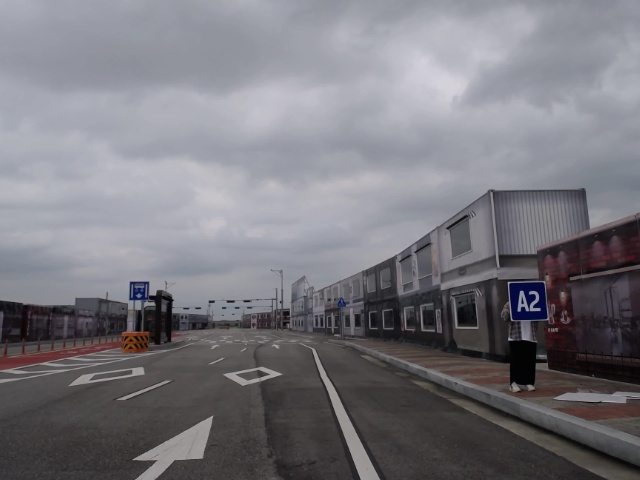delivery_a2: (508, 280, 549, 321)
